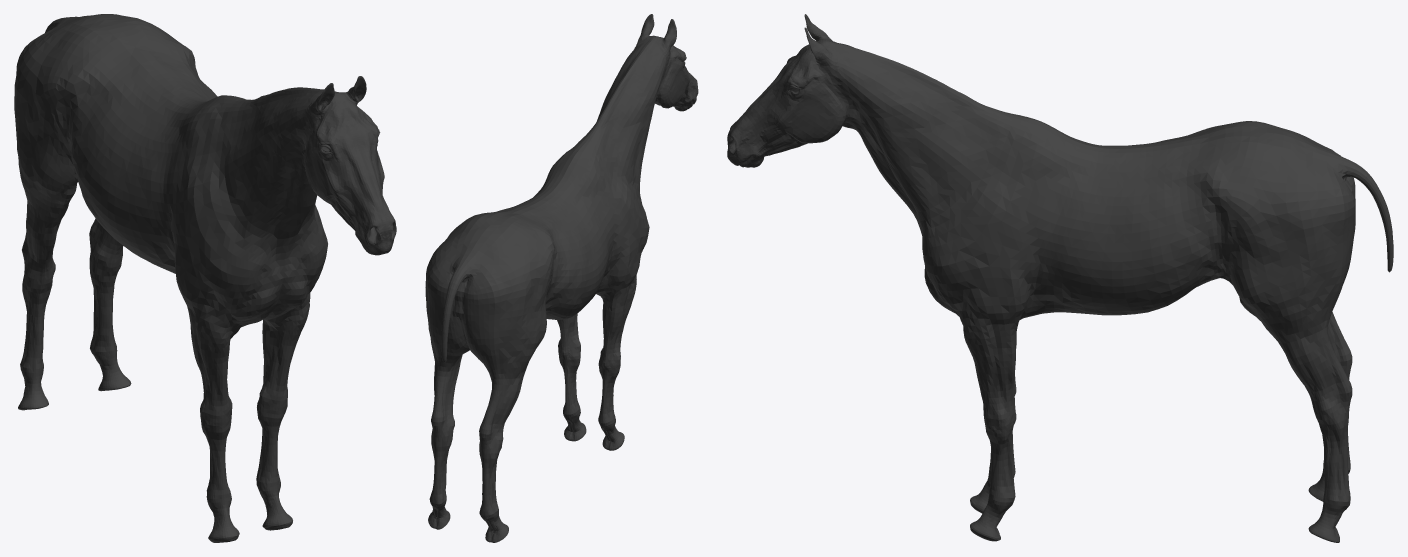
Rendered from horse_BODY.glb.
3 views of the same model, side by side, from view 1: azimuth 30°, elevation 25°; view 2: azimuth 150°, elevation 25°; view 3: azimuth 270°, elevation 25° (orthographic). The views are drawn at different scales.
Parts seen in each view (by area): view 1: horse_BODY; view 2: horse_BODY; view 3: horse_BODY.
Boxes of the visible parts, x1,y1,x2,y2 form: horse_BODY: (14, 14, 396, 542); horse_BODY: (425, 14, 698, 542); horse_BODY: (727, 14, 1393, 542).
Bounding box in the file's own units: 59.89 × 202 × 242.
1 material, 1 textured.
